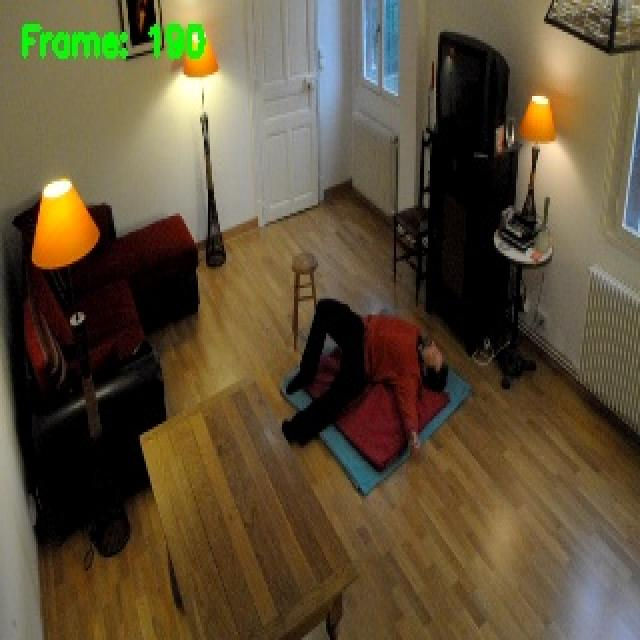Fall-Detected: (281, 302, 447, 456)
